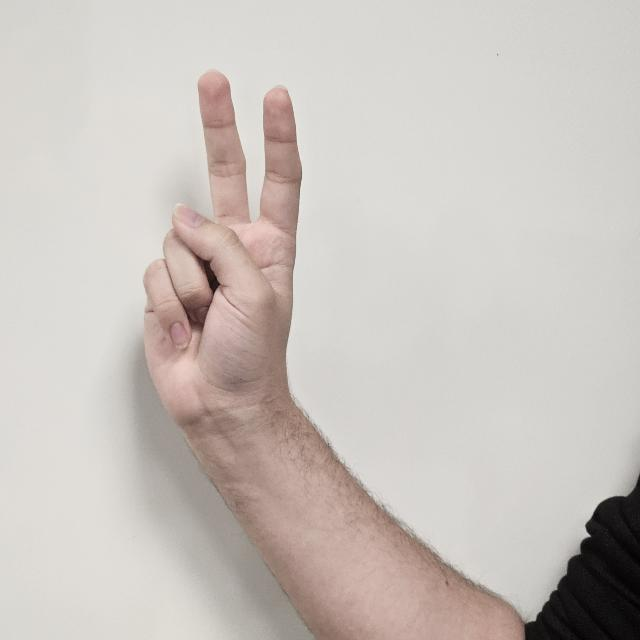Triangulo: (116, 67, 320, 480)
